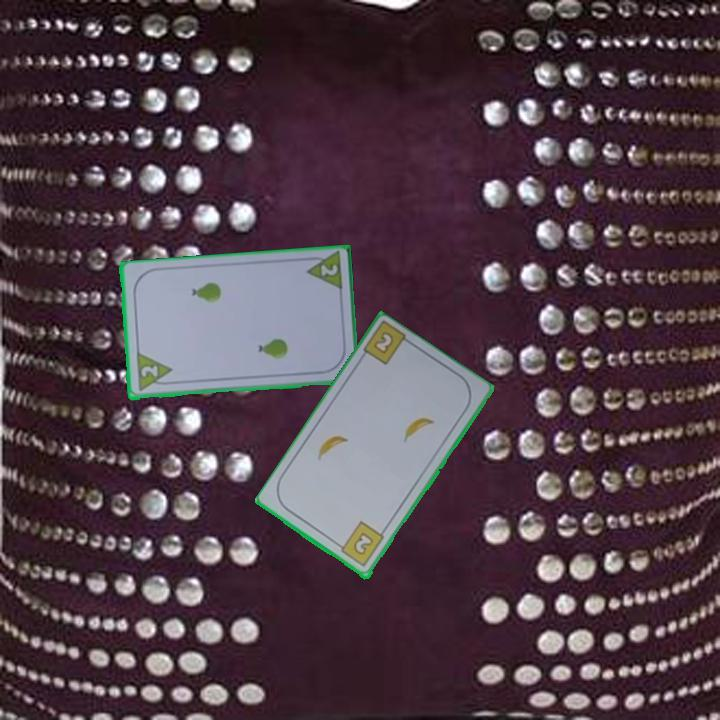2b: (333, 518, 387, 570), (370, 328, 397, 357)
2p: (301, 250, 345, 294), (133, 350, 175, 394)
